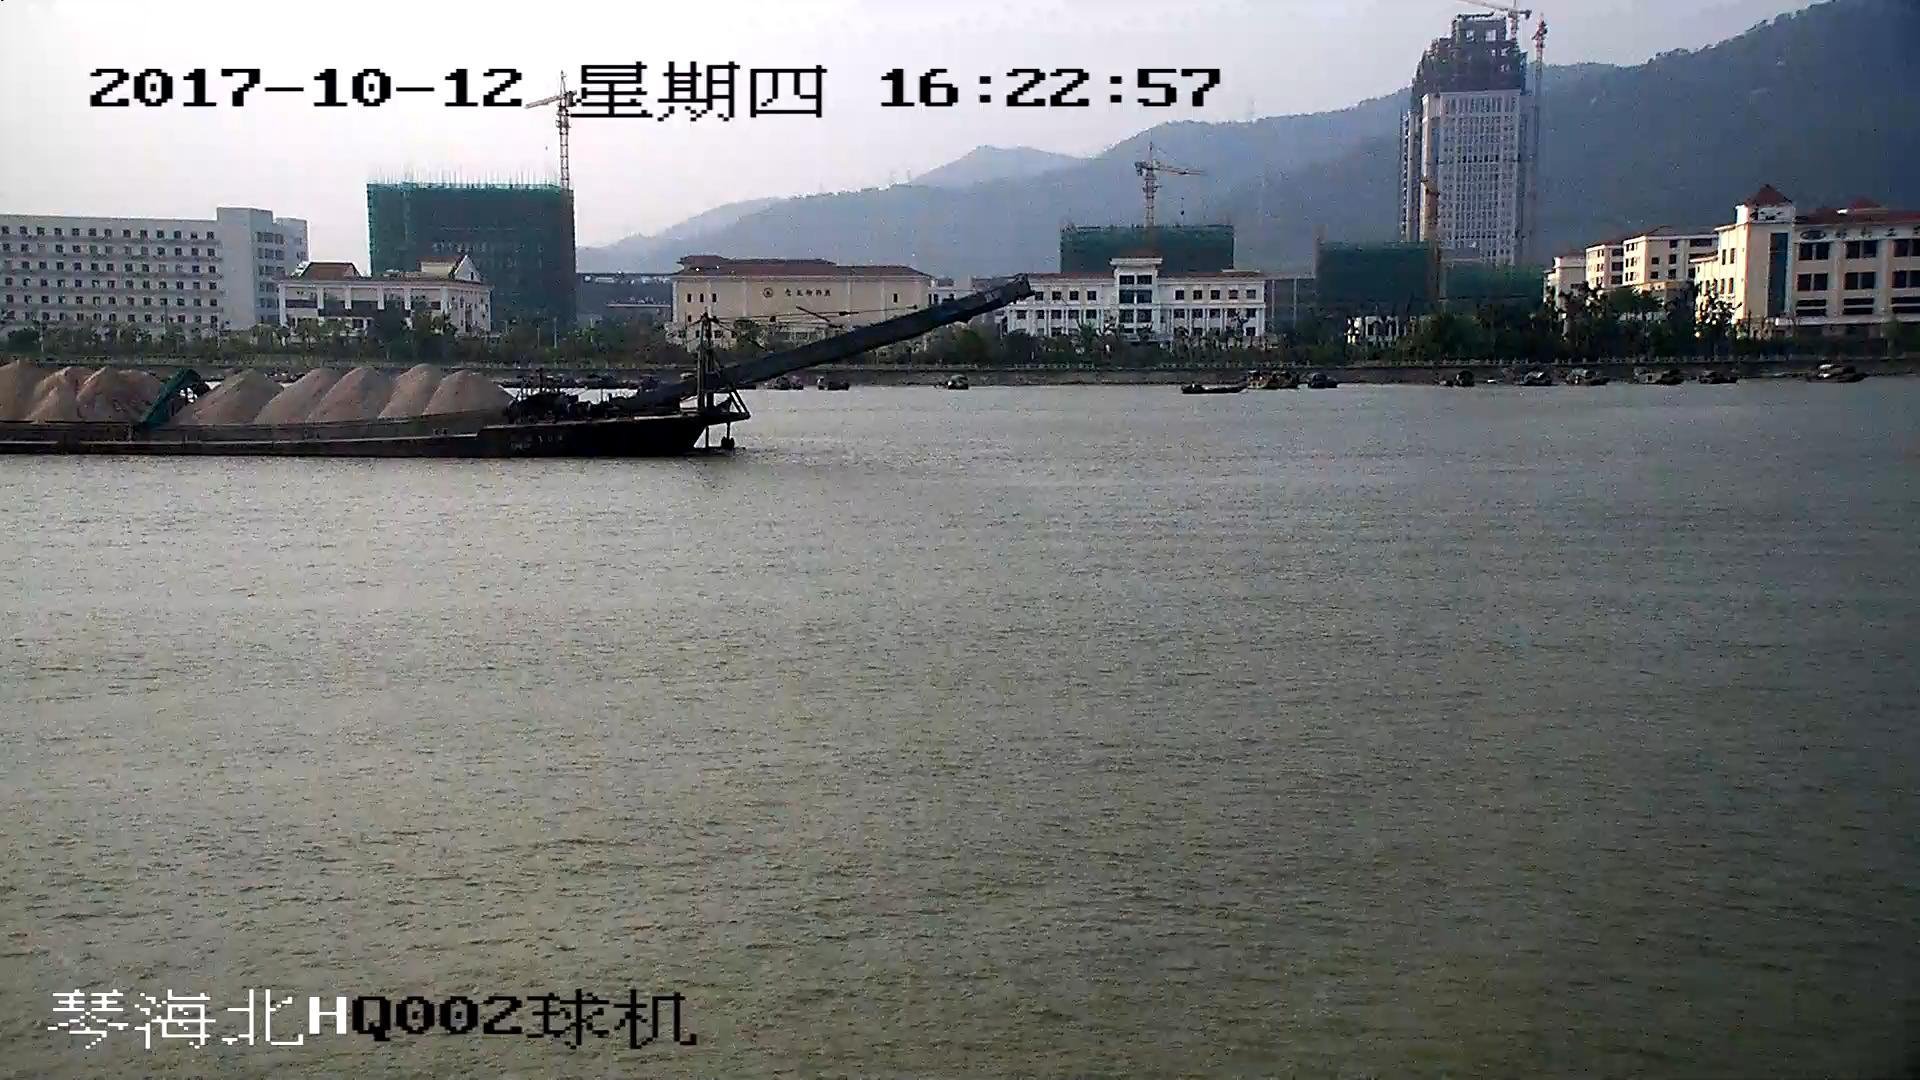Ship: (3, 284, 1029, 454)
